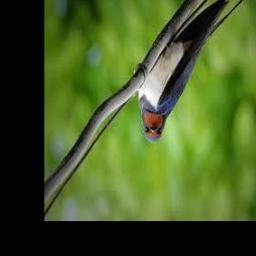Swallow: (137, 0, 251, 143)
